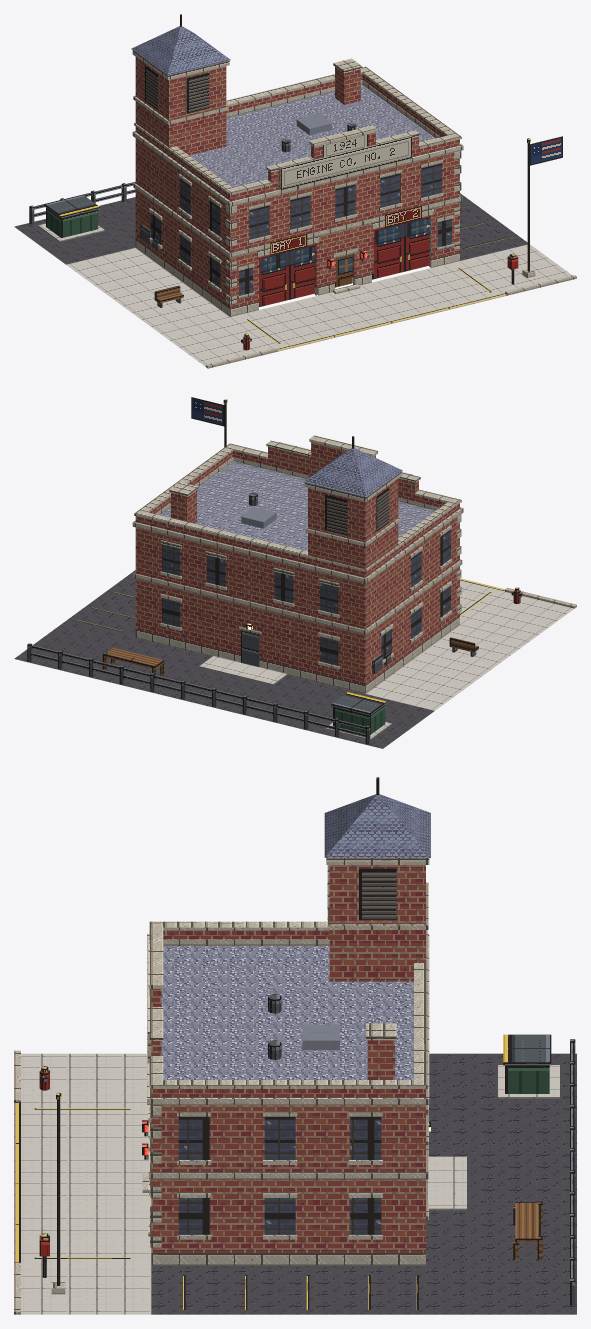
The model's file is fire-station-1924.glb.
3 views of the same model, one above another, from view 1: azimuth 30°, elevation 25°; view 2: azimuth 150°, elevation 25°; view 3: azimuth 270°, elevation 25° (orthographic). The views are drawn at different scales.
Visible parts, largest first — view 1: structure, lot, parking_lot, rear_service, curb_props; view 2: structure, parking_lot, lot, rear_service, curb_props; view 3: structure, parking_lot, lot, rear_service, curb_props.
Part boxes in pixels (bbox=[...]): structure: bbox=[131, 14, 463, 316]; lot: bbox=[66, 244, 576, 368]; parking_lot: bbox=[14, 193, 527, 264]; rear_service: bbox=[29, 182, 135, 241]; curb_props: bbox=[154, 136, 562, 350]; structure: bbox=[132, 435, 463, 693]; parking_lot: bbox=[14, 570, 434, 748]; lot: bbox=[365, 578, 576, 710]; rear_service: bbox=[27, 643, 391, 744]; curb_props: bbox=[191, 397, 522, 656]; structure: bbox=[142, 777, 430, 1265]; parking_lot: bbox=[151, 1053, 576, 1314]; lot: bbox=[14, 1050, 151, 1314]; rear_service: bbox=[426, 1034, 575, 1305]; curb_props: bbox=[39, 1066, 65, 1294].
Size of what is drawn, in the model's own units: 28.03 by 17.23 by 25.45.
Materials: 11 (11 with a texture image).
